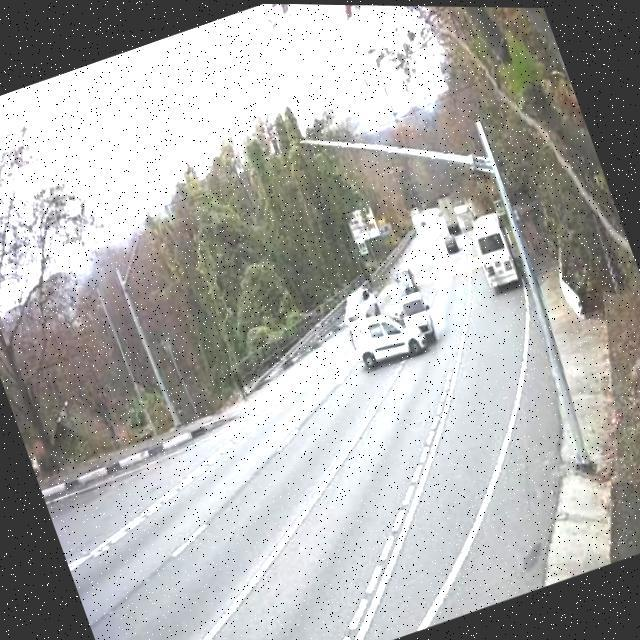Car Accident Detector - v4 Generation1 Exported: (342, 284, 446, 374)
